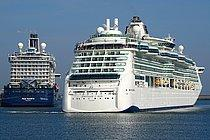Ship: (61, 14, 207, 113)
